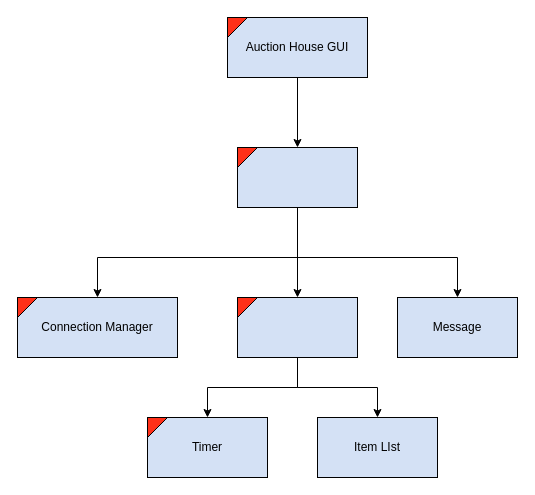
This 535x495 diagram has some shape labels left out. The shapes that lost their labels are listed below. From the top down, each one's box as (x1, y1, x2, y2) in pixels, then its label:
(236, 146, 358, 208): Auction House
(236, 296, 358, 358): Auction
